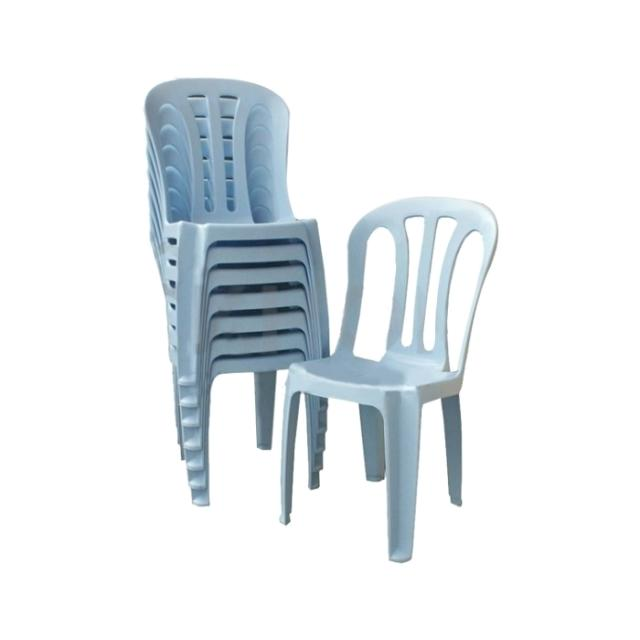Chair: (277, 191, 509, 571), (140, 75, 337, 512)
